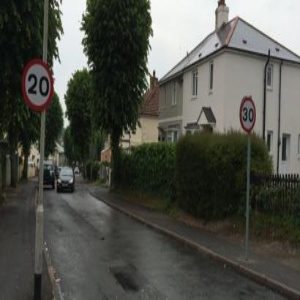20 speed: (22, 58, 55, 111)
30 speed: (239, 97, 257, 132)
